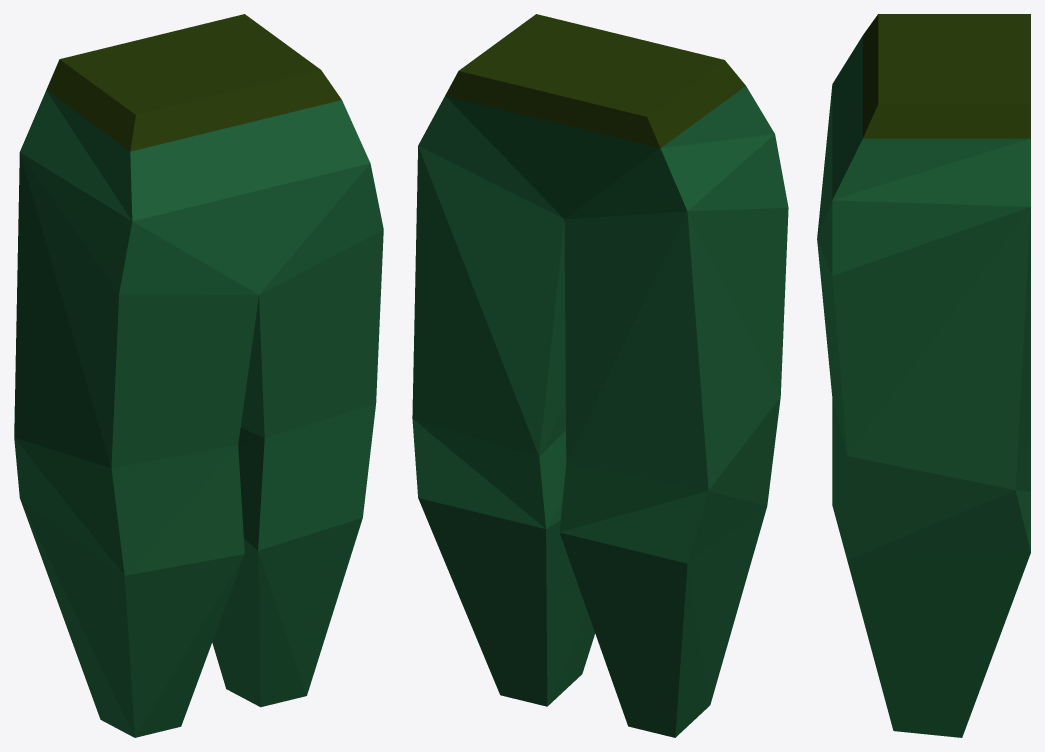
Rendered from npc_world_crone_4.obj.
3 views of the same model, side by side, from view 1: azimuth 30°, elevation 25°; view 2: azimuth 150°, elevation 25°; view 3: azimuth 270°, elevation 25° (orthographic).
Bounding box in the file's own units: 0.3438 × 0.7188 × 0.2188.
